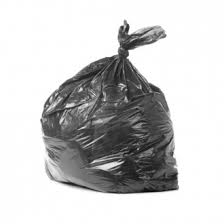Trash: (31, 10, 192, 196)
